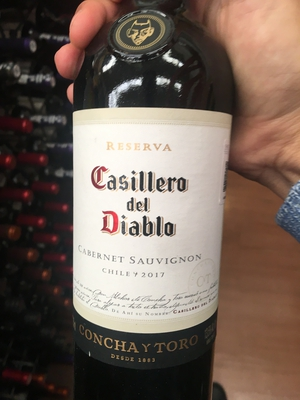casillero del diablo cabernet sauvignon: (60, 13, 238, 396)
